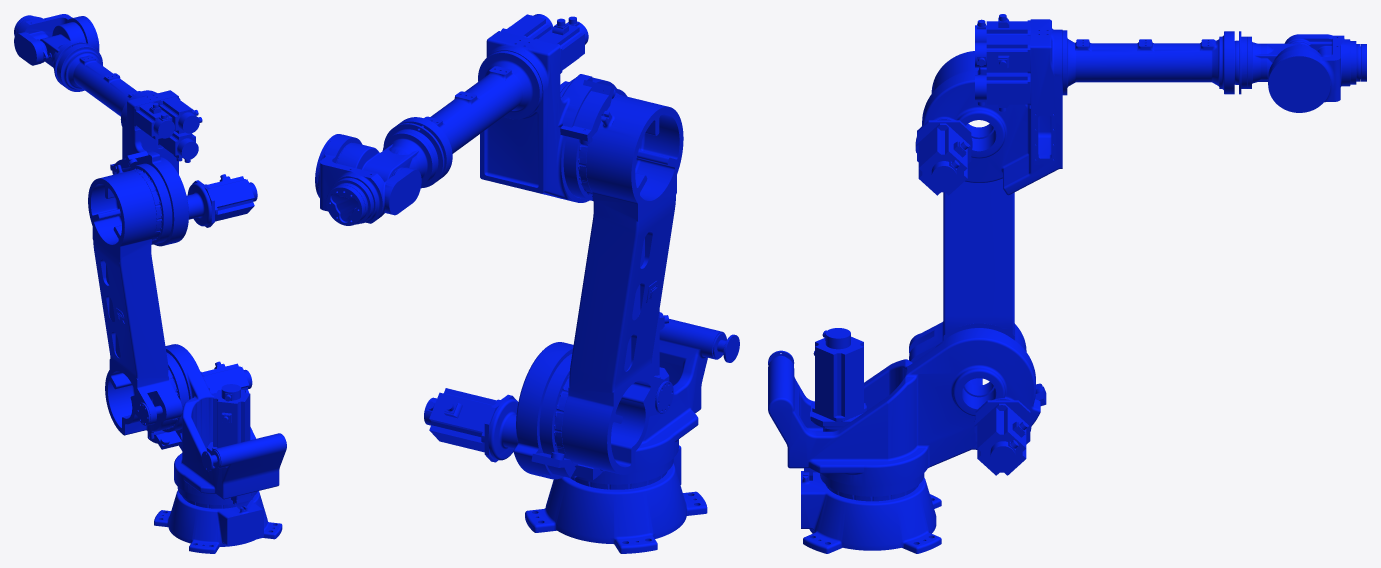
Rendered from Robot.fbx.
The picture shows the model from 3 angles, left to right: view 1: azimuth 30°, elevation 25°; view 2: azimuth 150°, elevation 25°; view 3: azimuth 270°, elevation 25°; orthographic projection. The views are drawn at different scales.
Visible parts, largest first — view 1: А1, А0, А2, A Основание, А2-3, А4, А3; view 2: А1, А0, А2, A Основание, А2-3, А4, А3, А5; view 3: А0, А2, А1, A Основание, А2-3, А4, А3.
Part boxes in pixels (x1,y1,x2,y2): А1: (88, 164, 182, 439); А0: (148, 344, 286, 509); А2: (110, 90, 257, 246); A Основание: (154, 487, 282, 553); А2-3: (56, 44, 154, 126); А4: (14, 14, 99, 65); А3: (40, 22, 90, 84); А1: (562, 95, 683, 474); А0: (424, 310, 739, 480); А2: (480, 14, 627, 202); A Основание: (525, 445, 707, 553); А2-3: (396, 51, 542, 181); А4: (315, 134, 421, 224); А3: (336, 123, 444, 188); А5: (326, 185, 365, 225); А0: (768, 328, 1046, 486); А2: (915, 14, 1062, 195); А1: (909, 51, 1026, 385); A Основание: (801, 471, 941, 553); А2-3: (1062, 30, 1238, 95); А4: (1268, 34, 1360, 112); А3: (1239, 31, 1321, 94).
Bounding box in the file's own units: 0.9439 × 2.33 × 2.52.
